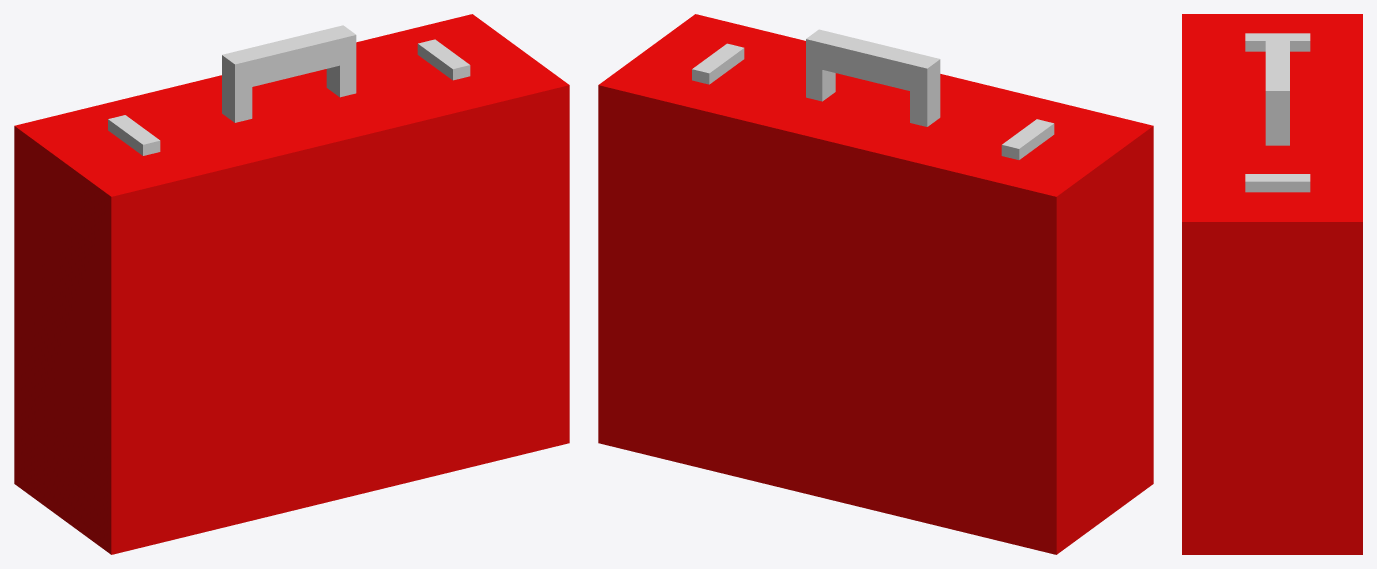
Rendered from suitcase.FBX.
3 views of the same model, side by side, from view 1: azimuth 30°, elevation 25°; view 2: azimuth 150°, elevation 25°; view 3: azimuth 270°, elevation 25° (orthographic). The views are drawn at different scales.
Parts seen in each view (by area): view 1: suitcase, suitcase_handle, suitcase_ lock; view 2: suitcase, suitcase_handle, suitcase_ lock; view 3: suitcase, suitcase_handle, suitcase_ lock.
Boxes of the visible parts, left/top/right/bottom form: suitcase: left=14, top=14, right=569, bottom=554; suitcase_handle: left=222, top=25, right=356, bottom=122; suitcase_ lock: left=108, top=39, right=470, bottom=155; suitcase: left=598, top=14, right=1153, bottom=554; suitcase_handle: left=806, top=29, right=940, bottom=126; suitcase_ lock: left=692, top=43, right=1054, bottom=159; suitcase: left=1182, top=14, right=1362, bottom=554; suitcase_handle: left=1265, top=36, right=1289, bottom=145; suitcase_ lock: left=1245, top=33, right=1310, bottom=192.
Bounding box in the file's own units: 1339 × 492 × 1163.
